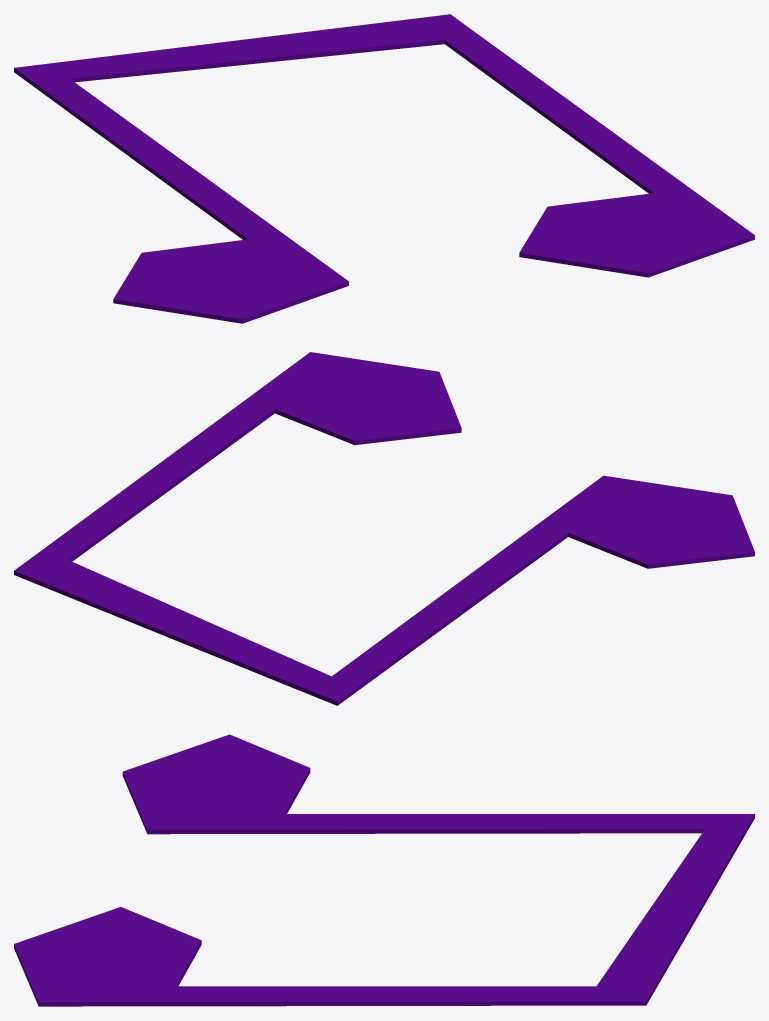
Rendered from MusicNote04.fbx.
The picture shows the model from 3 angles, top to bottom: view 1: azimuth 30°, elevation 25°; view 2: azimuth 150°, elevation 25°; view 3: azimuth 270°, elevation 25°; orthographic projection.
Parts seen in each view (by area): view 1: musicNote4; view 2: musicNote4; view 3: musicNote4.
Part boxes in pixels (<box>): musicNote4: <box>14,14,754,323</box>; musicNote4: <box>14,352,754,705</box>; musicNote4: <box>14,734,754,1006</box>.
Bounding box in the file's own units: 6.55 × 0.05 × 7.66.
